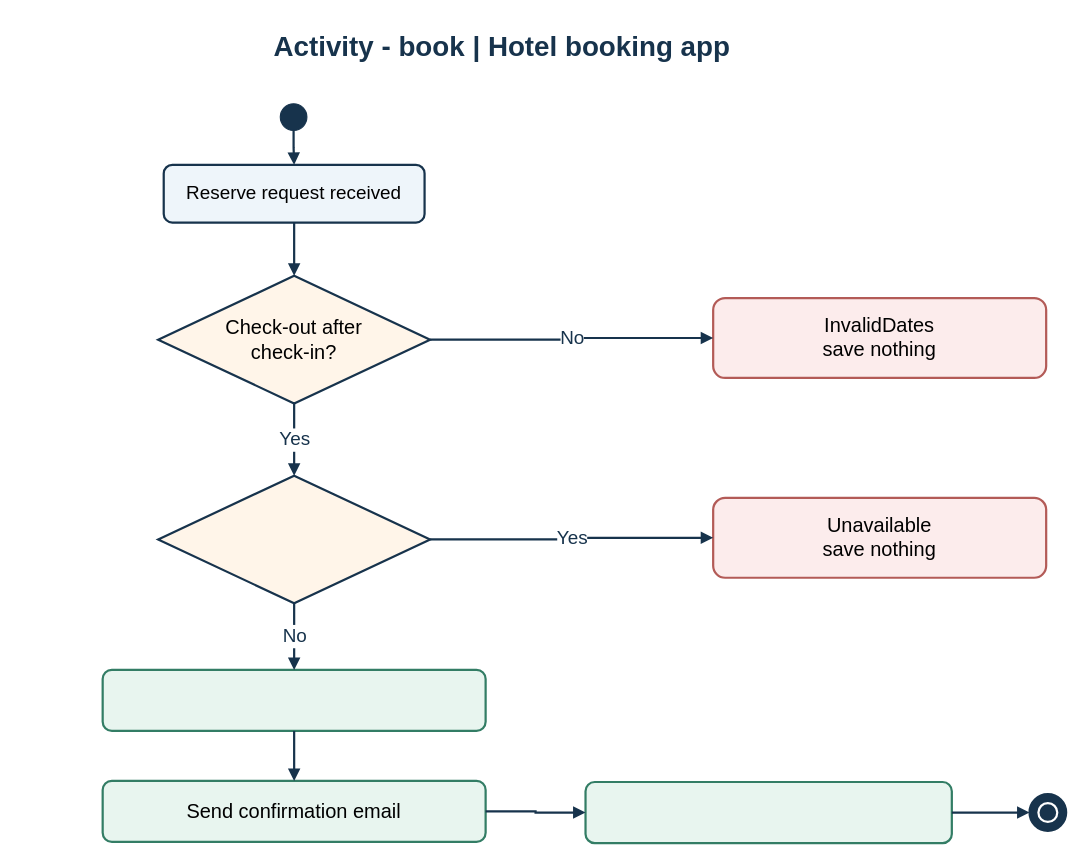
This 1086x862 diagram has some shape labels left out. The box of each missing label's shape, as (x1, y1, x2, y2) in pixels:
A Confirmed booking shares a night?: (157, 474, 431, 604)
Accepted + reservation id: (584, 780, 952, 844)
Save reservation as Confirmed: (101, 668, 486, 731)
